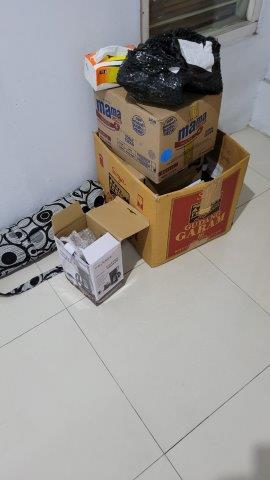kardus: (92, 87, 249, 267), (48, 196, 148, 305)
kertas: (174, 38, 215, 73)
